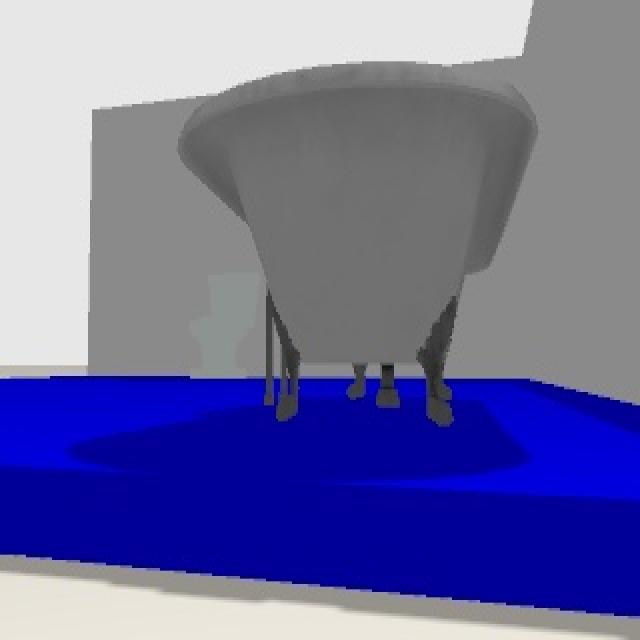bathtub: (176, 61, 542, 427)
